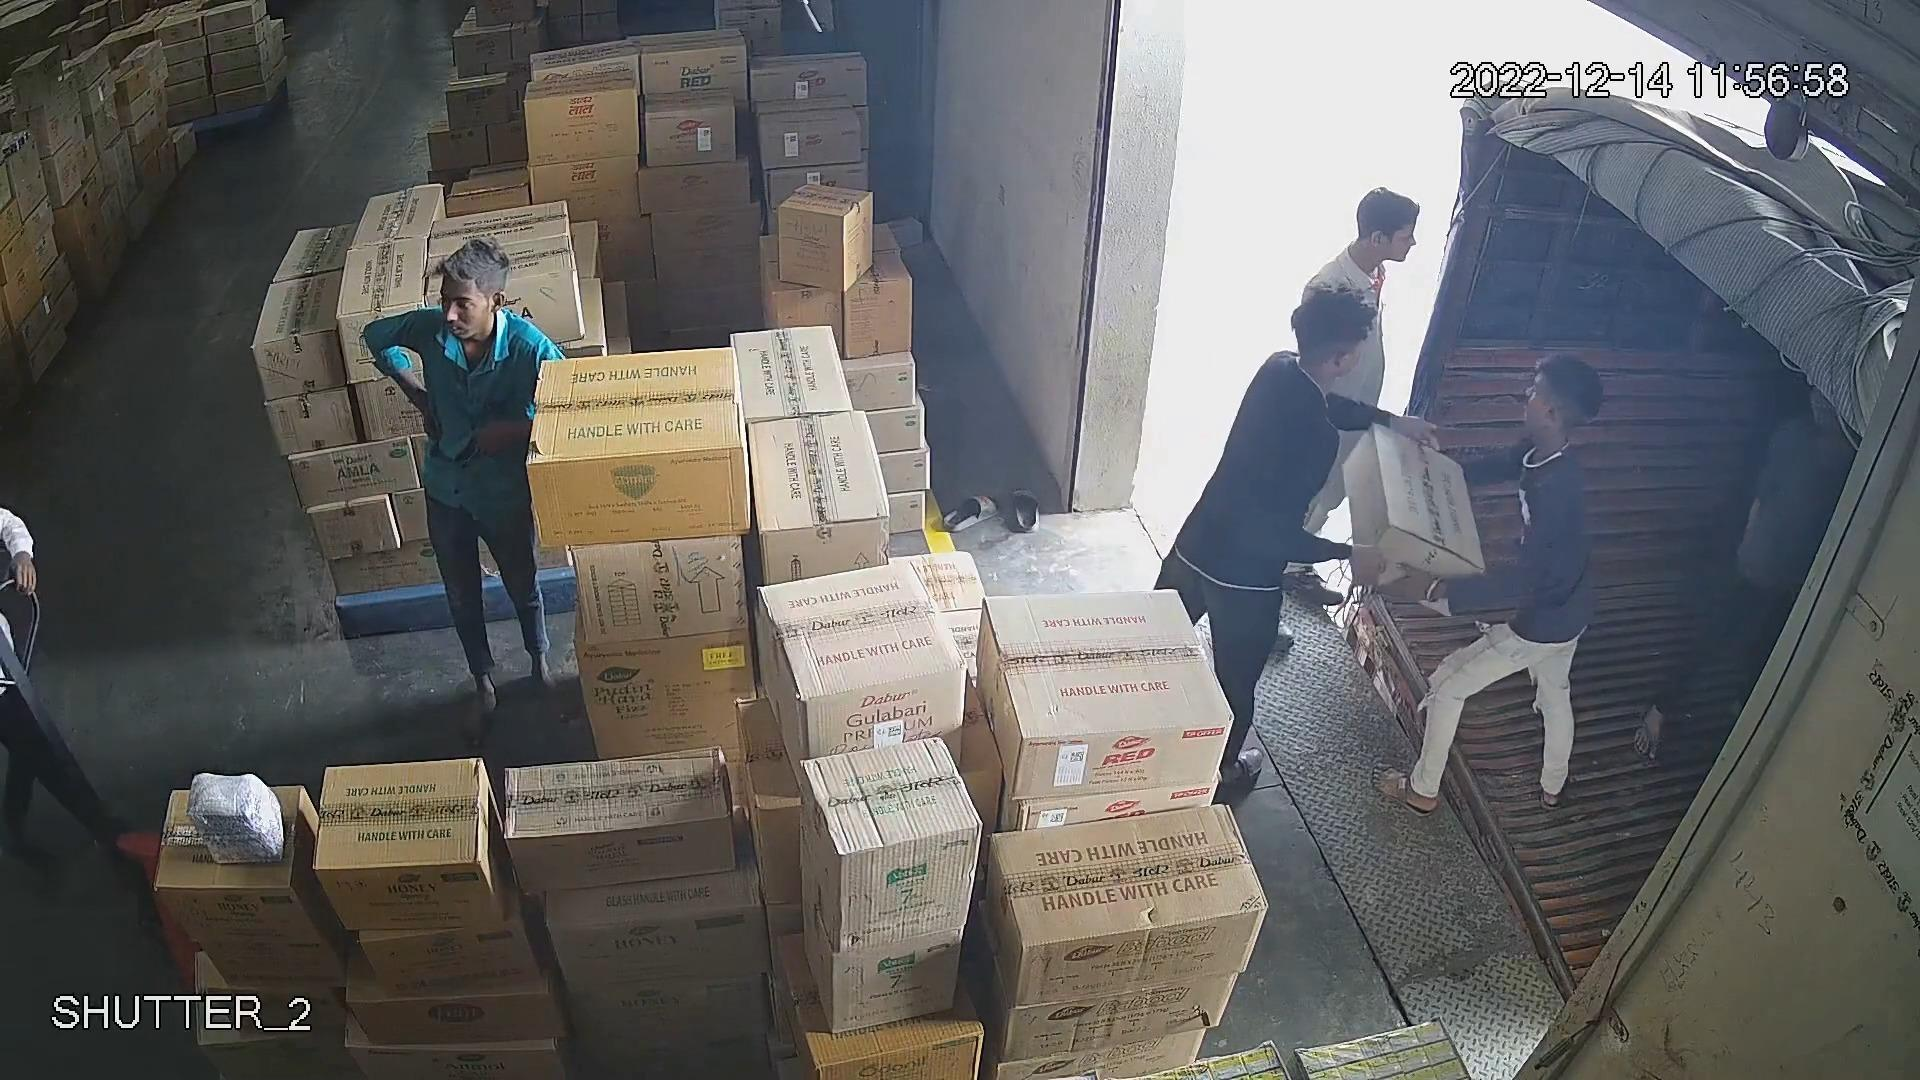-: (990, 800, 1265, 1007), (978, 584, 1233, 800), (530, 345, 753, 538), (757, 558, 963, 740), (800, 737, 977, 947), (575, 546, 750, 742), (502, 745, 738, 889), (314, 756, 501, 928), (1342, 425, 1482, 615), (745, 409, 890, 575), (156, 787, 322, 927), (728, 326, 851, 418), (522, 69, 640, 165), (774, 182, 877, 290), (642, 87, 737, 165), (757, 99, 862, 167), (749, 51, 869, 105)
